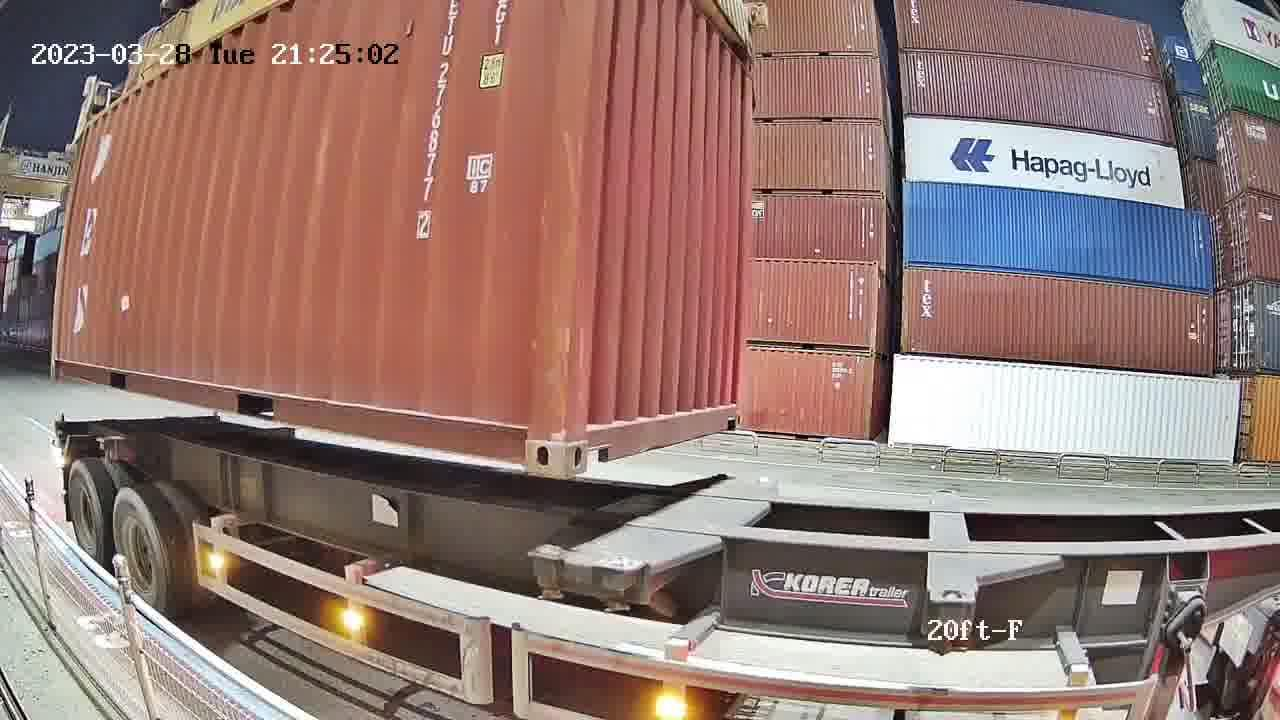Chassis: (529, 475, 737, 559), (600, 480, 775, 569)
Cone: (597, 557, 644, 620), (529, 544, 569, 606)
Hole_L: (563, 395, 621, 473)
Hole_R: (492, 395, 565, 473), (712, 389, 742, 431)
Tire: (110, 491, 170, 615), (67, 462, 108, 573)
